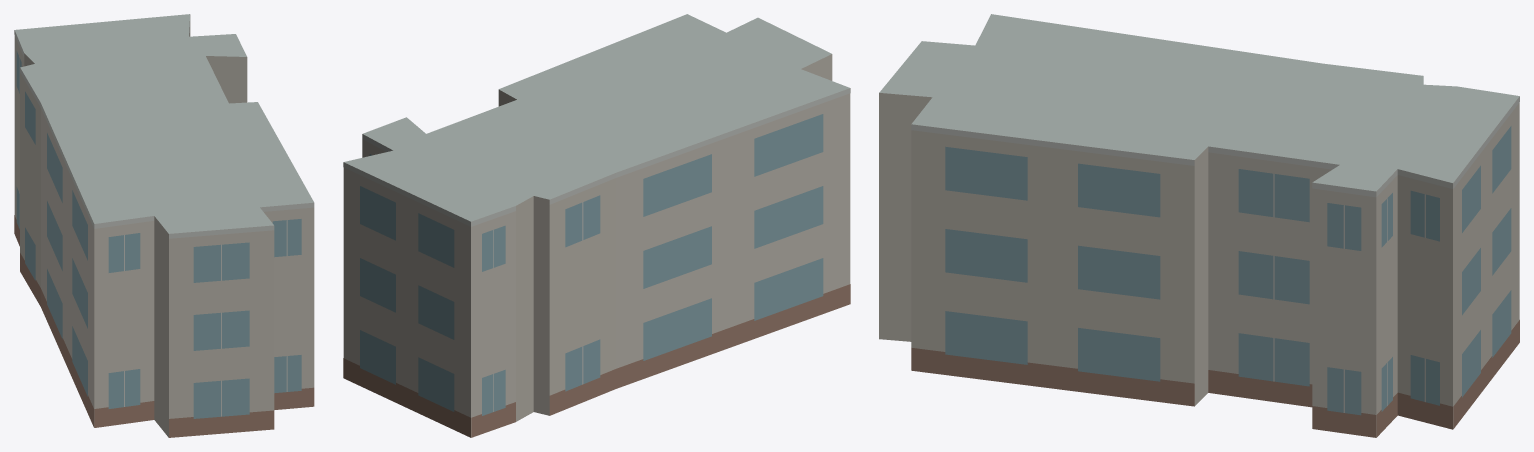
Rendered from survey-upis-32768363.glb.
The picture shows the model from 3 angles, left to right: view 1: azimuth 30°, elevation 25°; view 2: azimuth 150°, elevation 25°; view 3: azimuth 270°, elevation 25°; orthographic projection. The views are drawn at different scales.
Parts seen in each view (by area): view 1: survey-upis-32768363.tmp; view 2: survey-upis-32768363.tmp; view 3: survey-upis-32768363.tmp.
Boxes of the visible parts, bbox=[...] form: survey-upis-32768363.tmp: bbox=[14, 14, 314, 437]; survey-upis-32768363.tmp: bbox=[343, 14, 850, 437]; survey-upis-32768363.tmp: bbox=[879, 14, 1519, 437].
Size of the model in its own units: 15.77 by 10.2 by 24.05.
